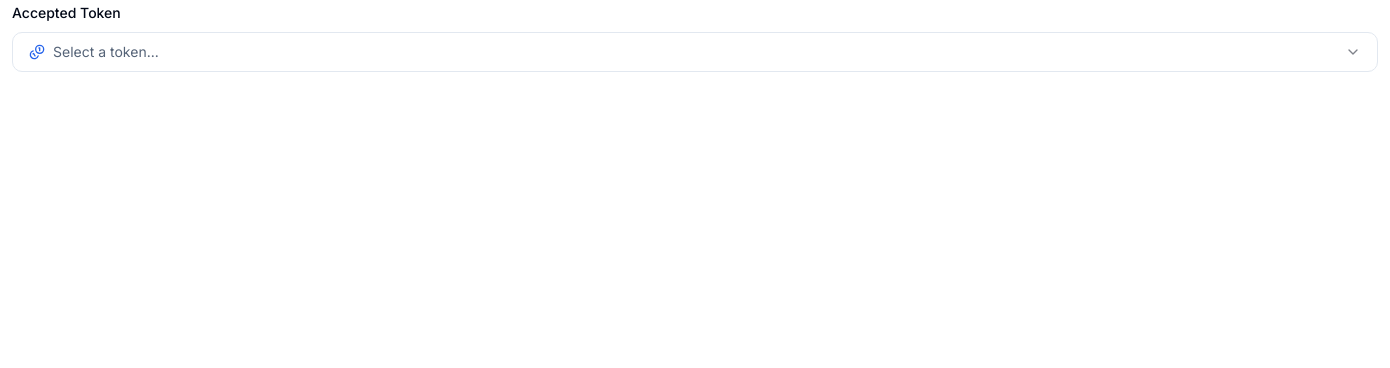
Test case: TokenSelector — custom token › validates after the 600 ms debounce and shows the symbol
Later steps or results of the test are not shown.
Click the button at (106,52), box [12, 32, 1378, 72]
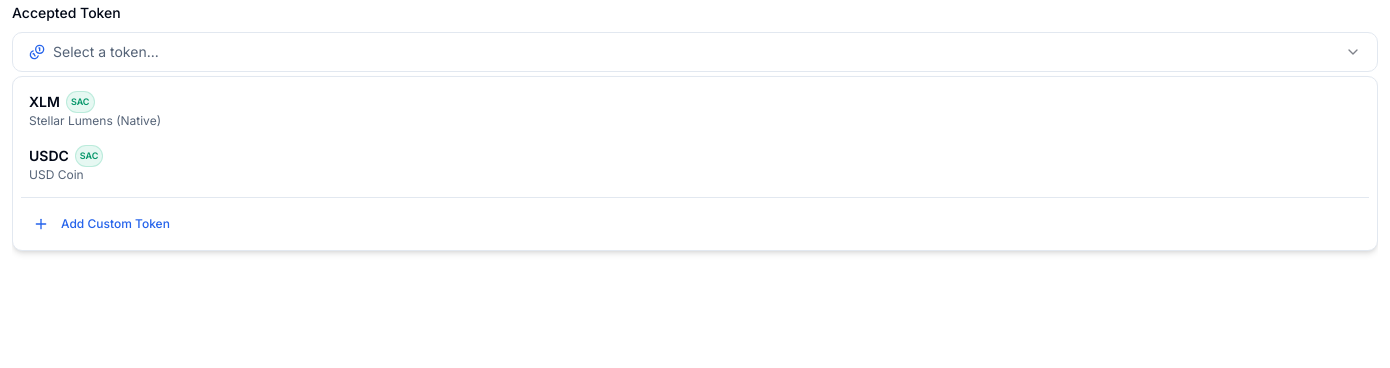
Click the button "Add Custom Token" at (115,224), box [21, 206, 1369, 242]
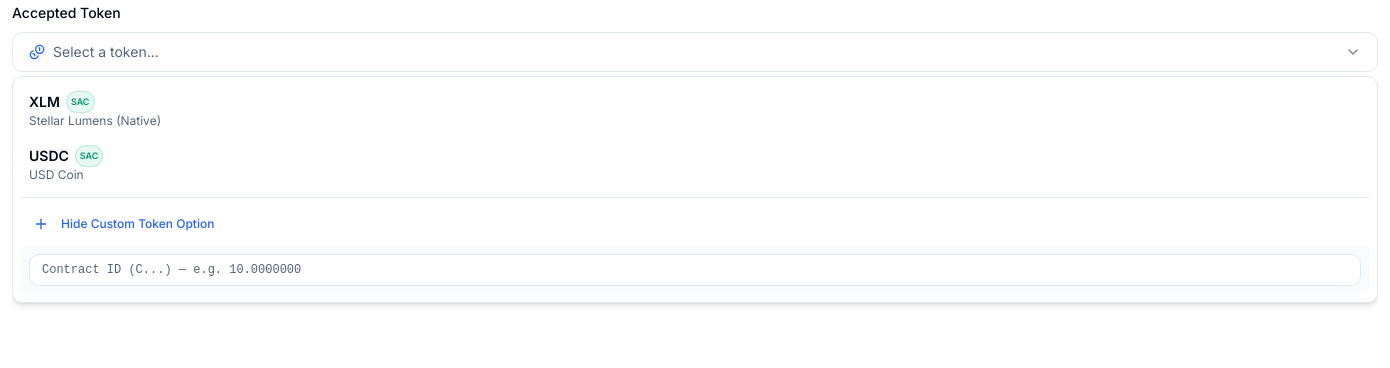
Type "CAAAAAAAAAAAAAAAAAAAAAAAAAAAAAAAAAAAAAAAAAAAAAAAAAAAAAAA" into the field with placeholder "Contract ID (C...) — e.g. 10.0000000" at (695,270), box [29, 254, 1361, 286]
Wait 600 ms
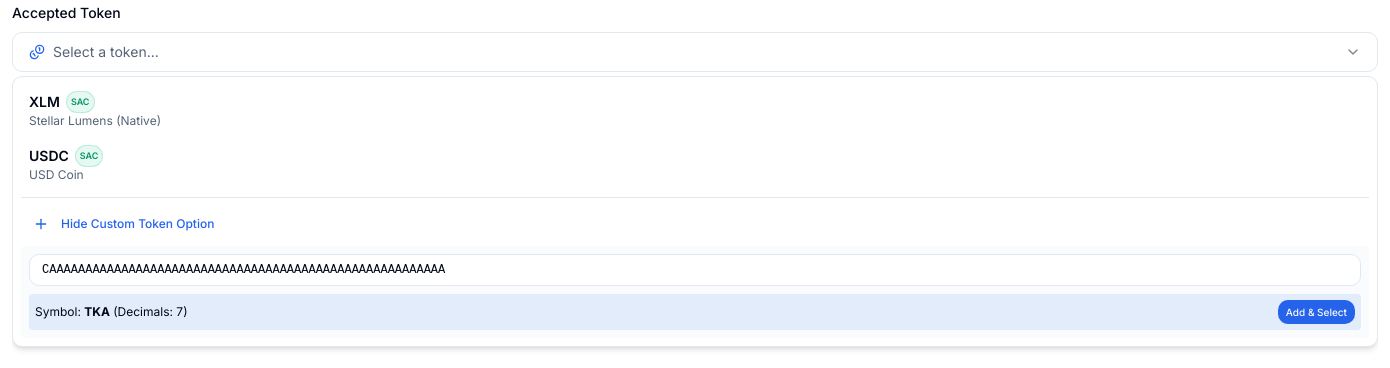
Result: the text "TKA" is shown at [84, 304, 110, 319]
